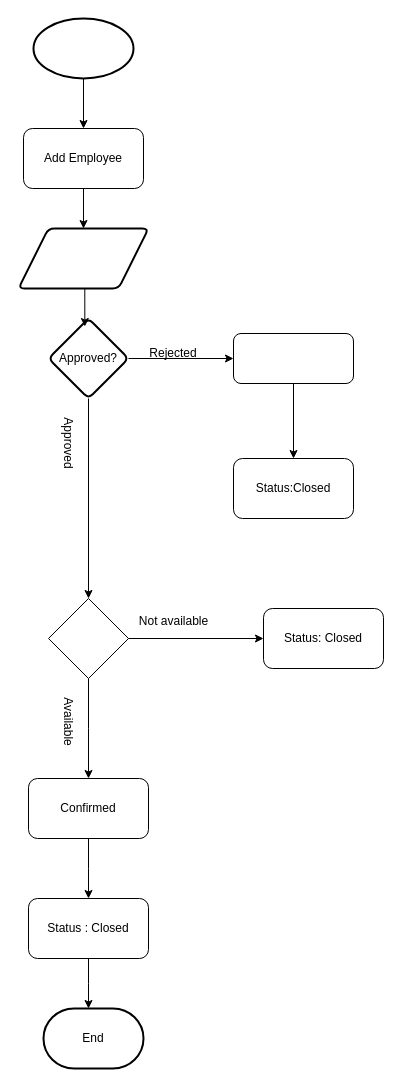
The diagram is 401 pixels wide and 1086 high, and some of its shapes have lost their labels. Here are the shapes that lost their labels. From the top down, the centre of each, then its label:
pixel 83 48: Start
pixel 83 258: travel request raise by emp
pixel 293 358: Cancel request
pixel 88 638: Booking available?
